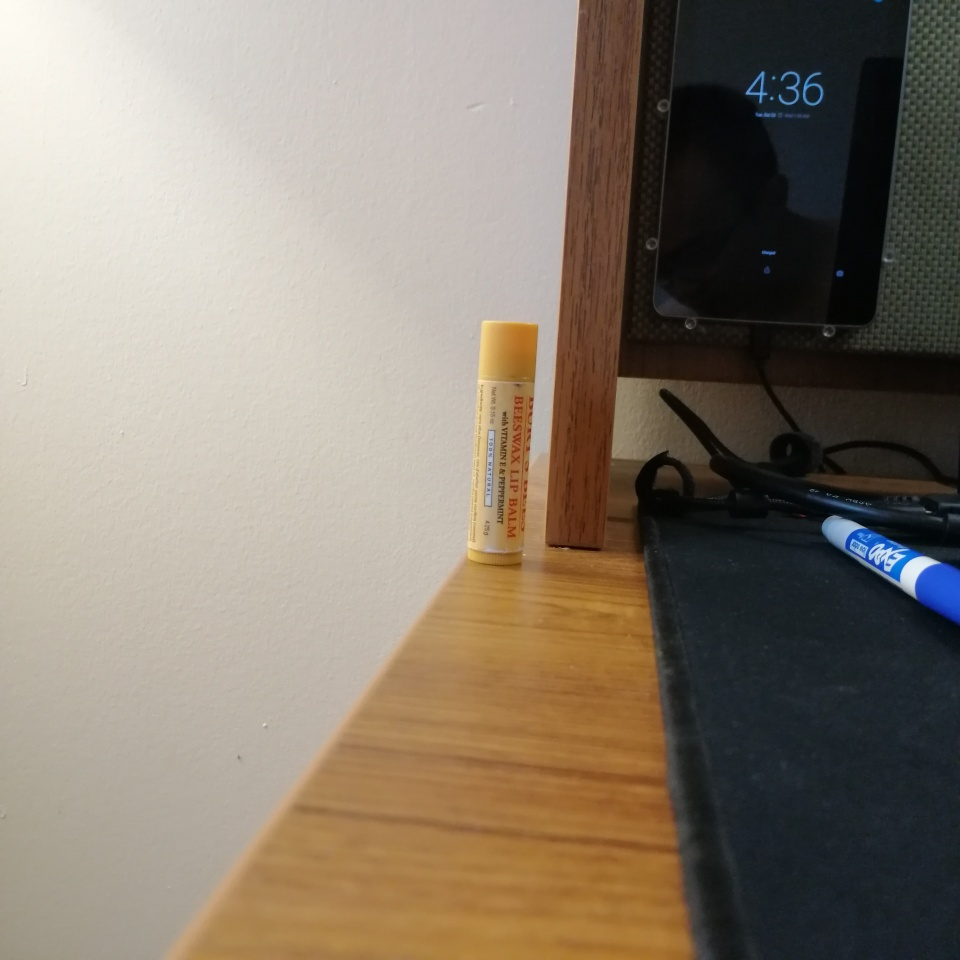chapstick: (467, 320, 539, 565)
